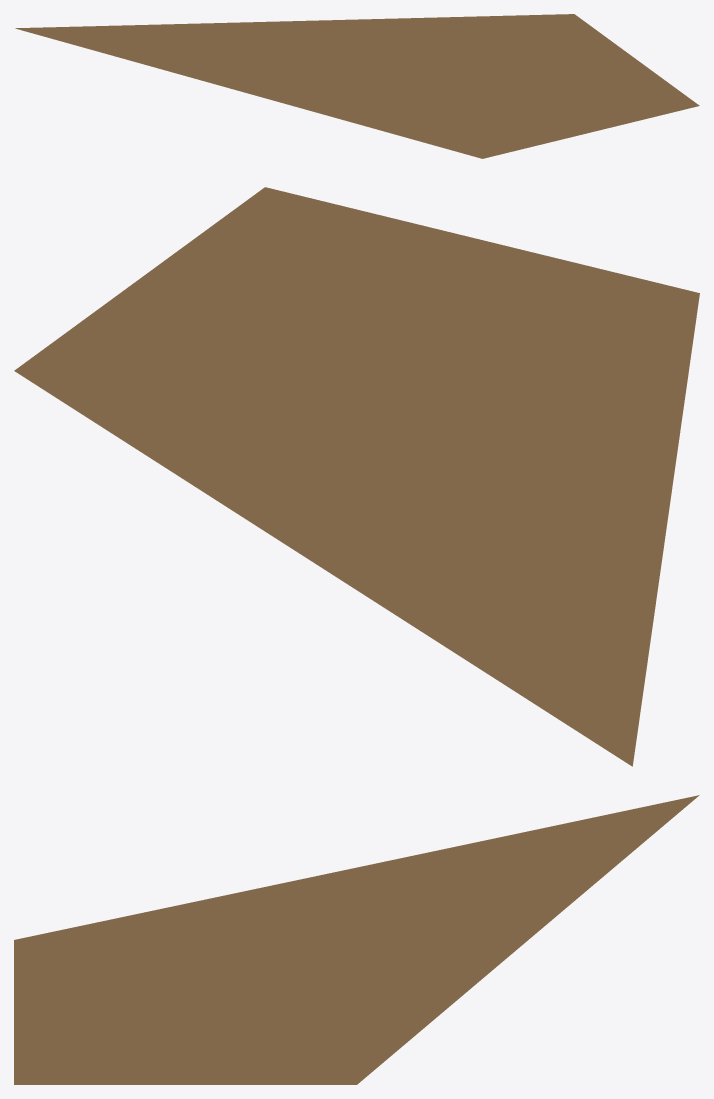
The picture shows the model from 3 angles, top to bottom: view 1: azimuth 30°, elevation 25°; view 2: azimuth 150°, elevation 25°; view 3: azimuth 270°, elevation 25°; orthographic projection. The views are drawn at different scales.
Visible parts, largest first — view 1: A1-STAIR-T03; view 2: A1-STAIR-T03; view 3: A1-STAIR-T03.
Part boxes in pixels (x1,y1,x2,y2): A1-STAIR-T03: (15, 14, 699, 158); A1-STAIR-T03: (14, 187, 699, 766); A1-STAIR-T03: (14, 795, 699, 1084).
Bounding box in the file's own units: 1.05 × 2.22e-16 × 1.05.
